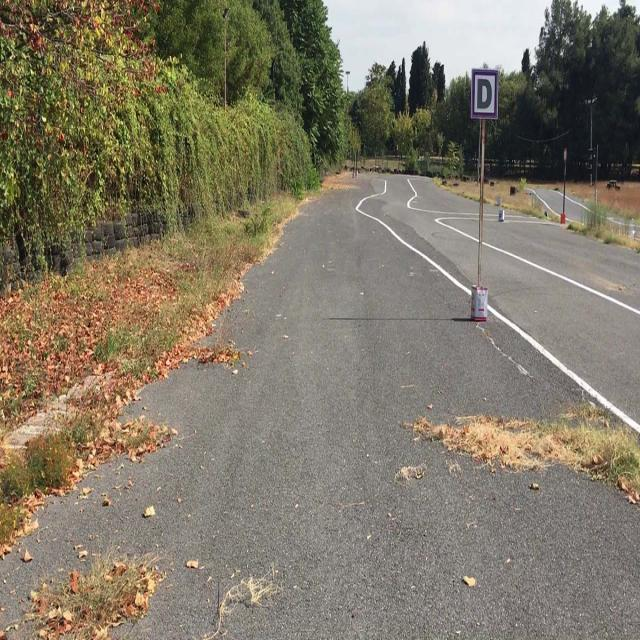durak: (473, 70, 496, 118)
